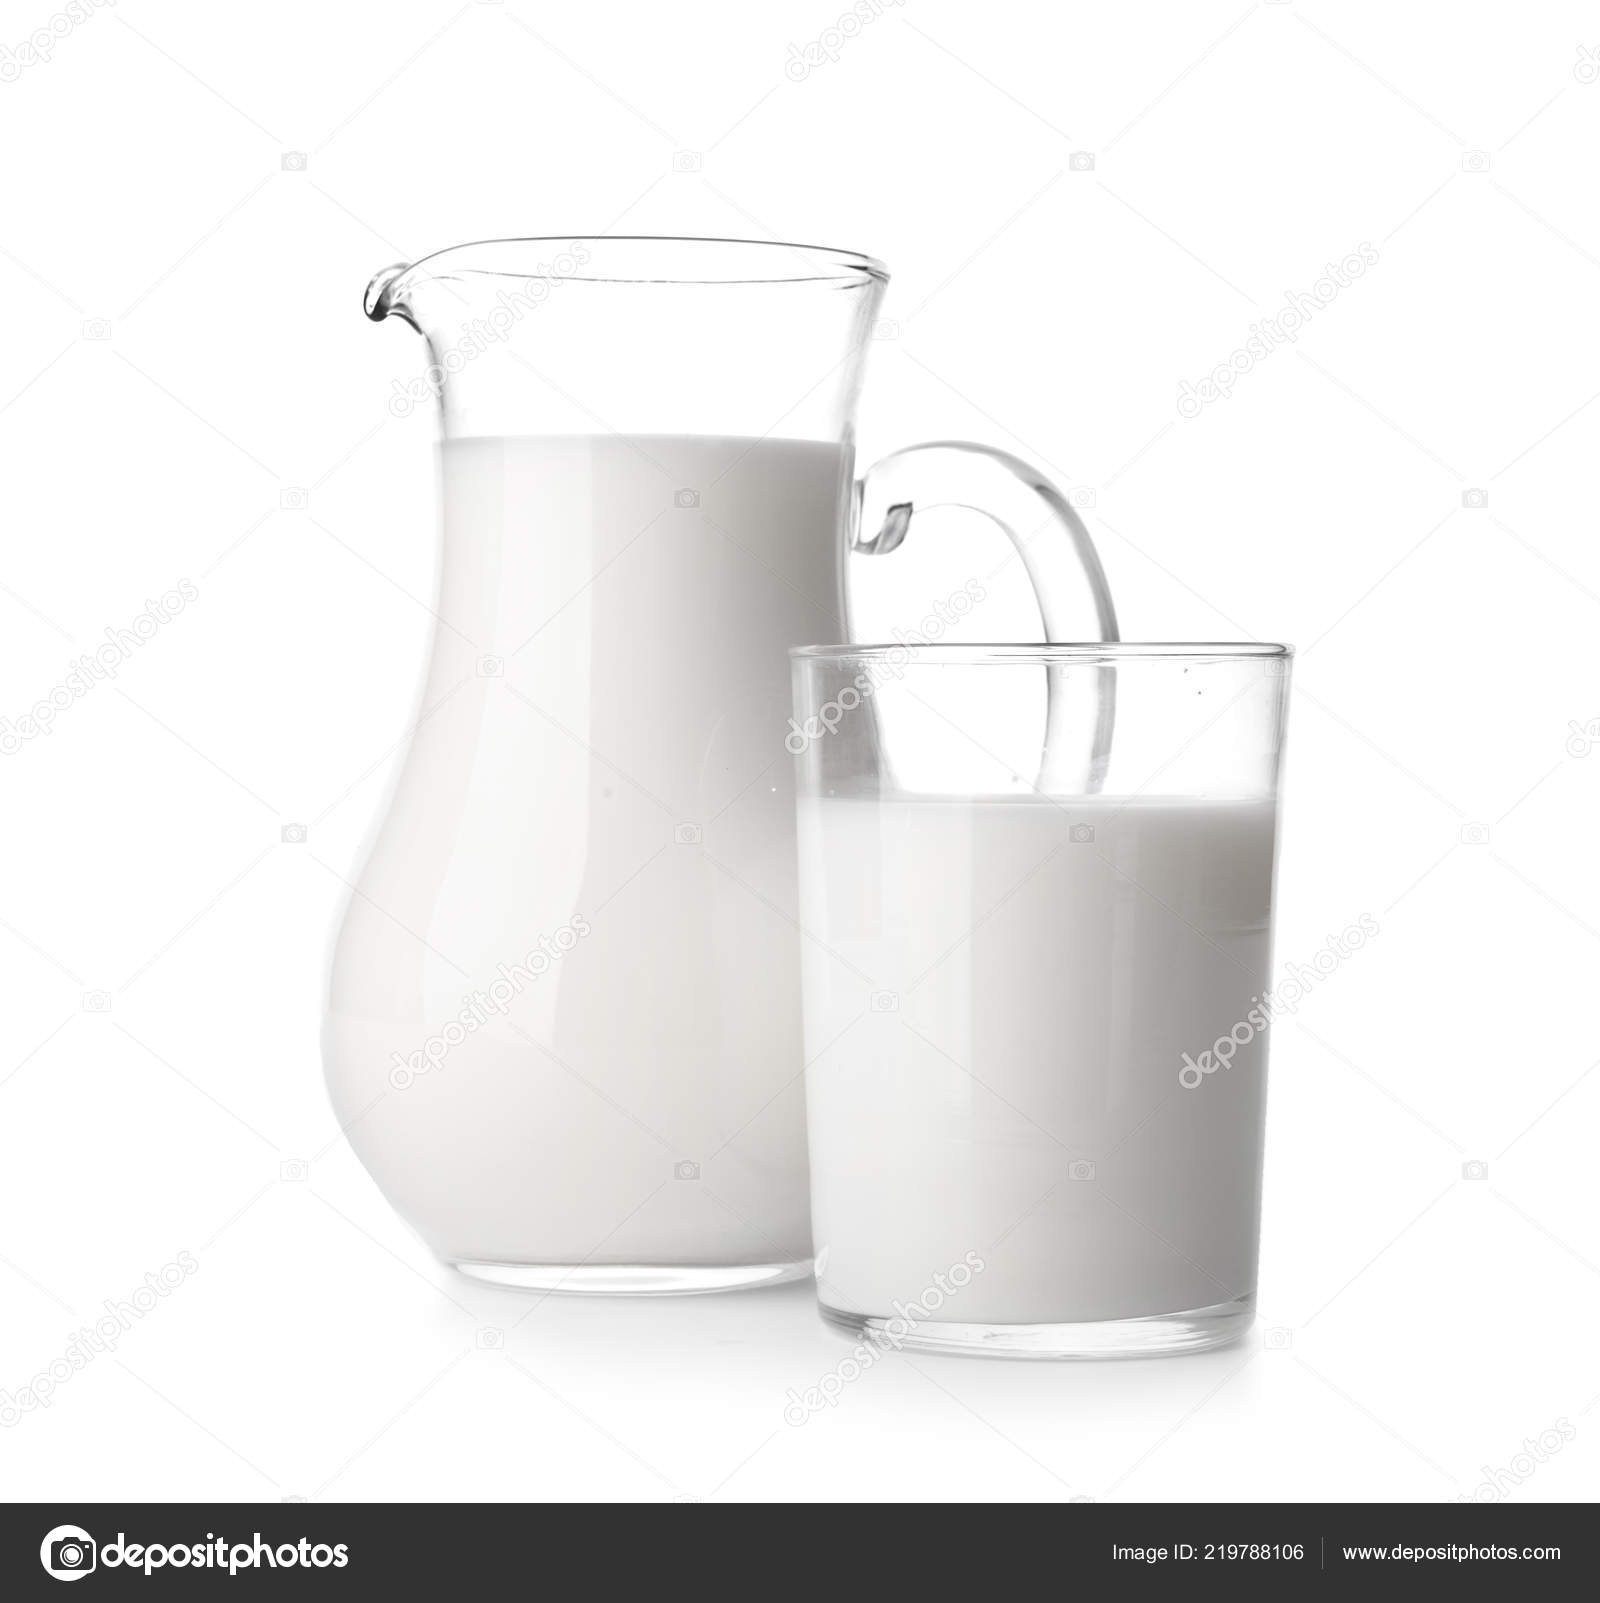glass of milk: (421, 377, 828, 1297), (807, 640, 1260, 1352)
